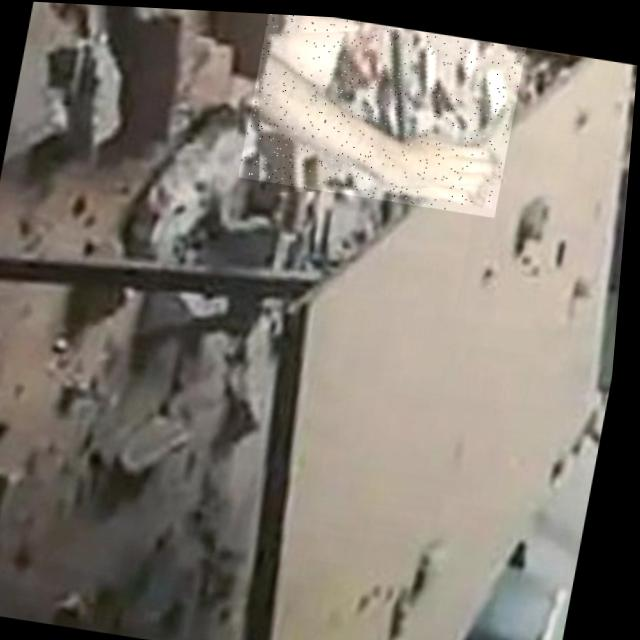Person in Rubble: (237, 10, 526, 212)
